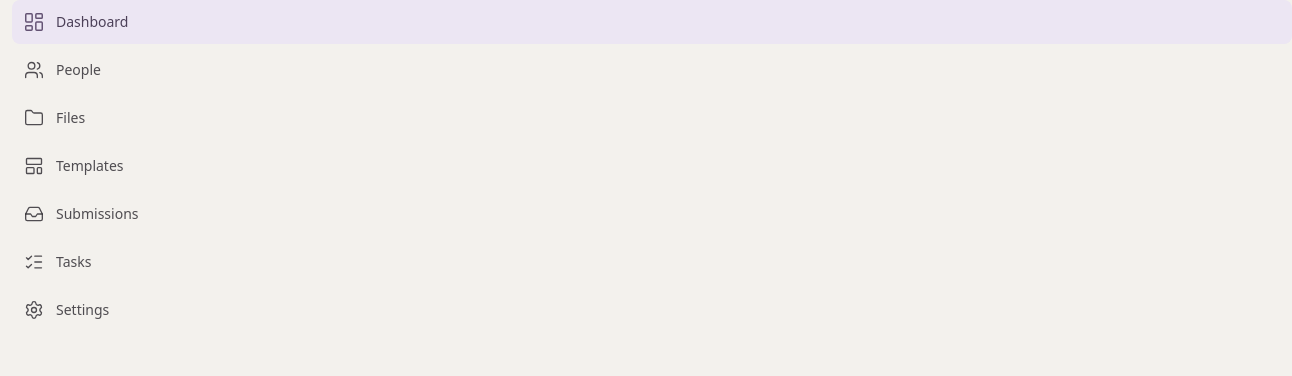
Scenario: sidebar customization interactions › restores the original order and shows an error when saving fails
The width and height of the screenshot is (1292, 376).
Press the mouse on the link to "/settings" at coordinates (67, 310), box [24,300,109,320]
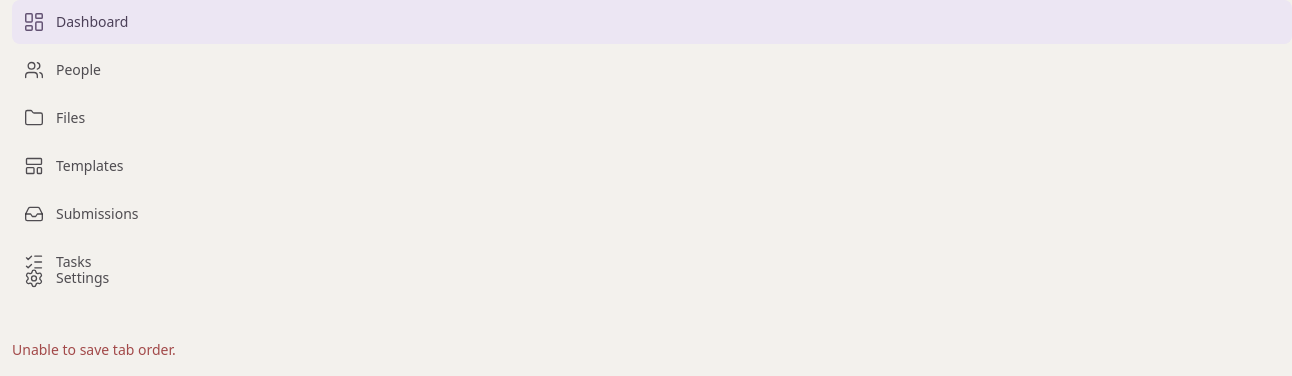
Expected: the message "Unable to save tab order." is shown, [12,340,176,359]
